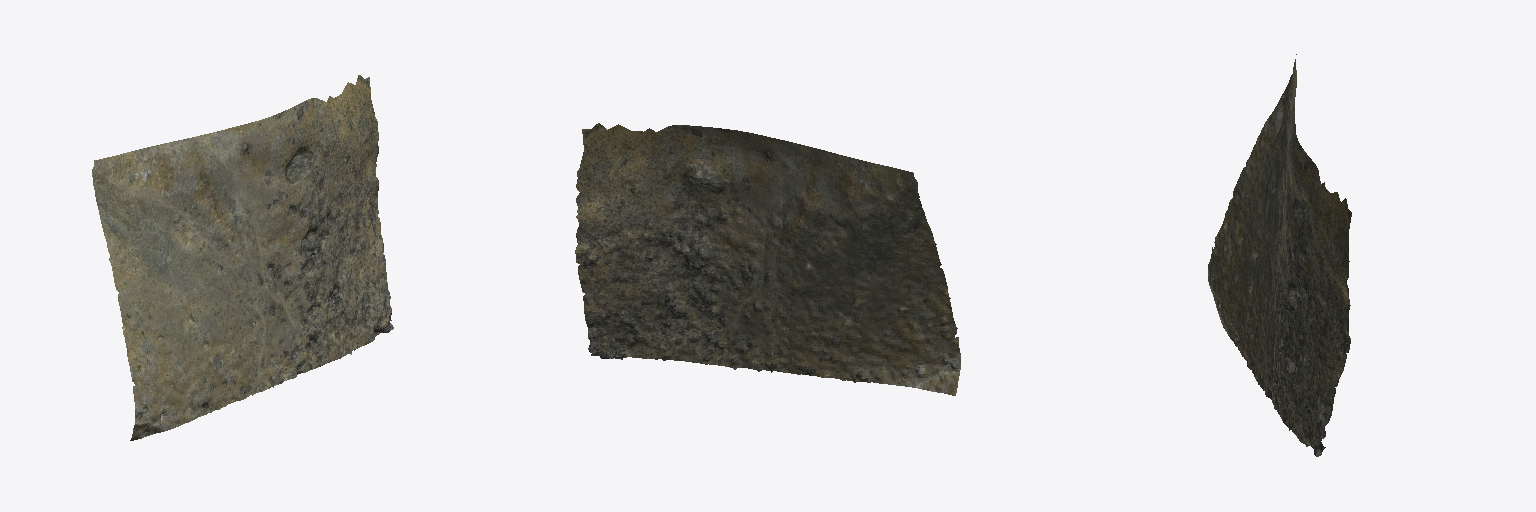
3 views of the same model, side by side, from view 1: azimuth 30°, elevation 25°; view 2: azimuth 150°, elevation 25°; view 3: azimuth 270°, elevation 25° (orthographic).
Bounding box in the file's own units: 2.07 × 1.59 × 0.8222.
1 materials, 1 textured.